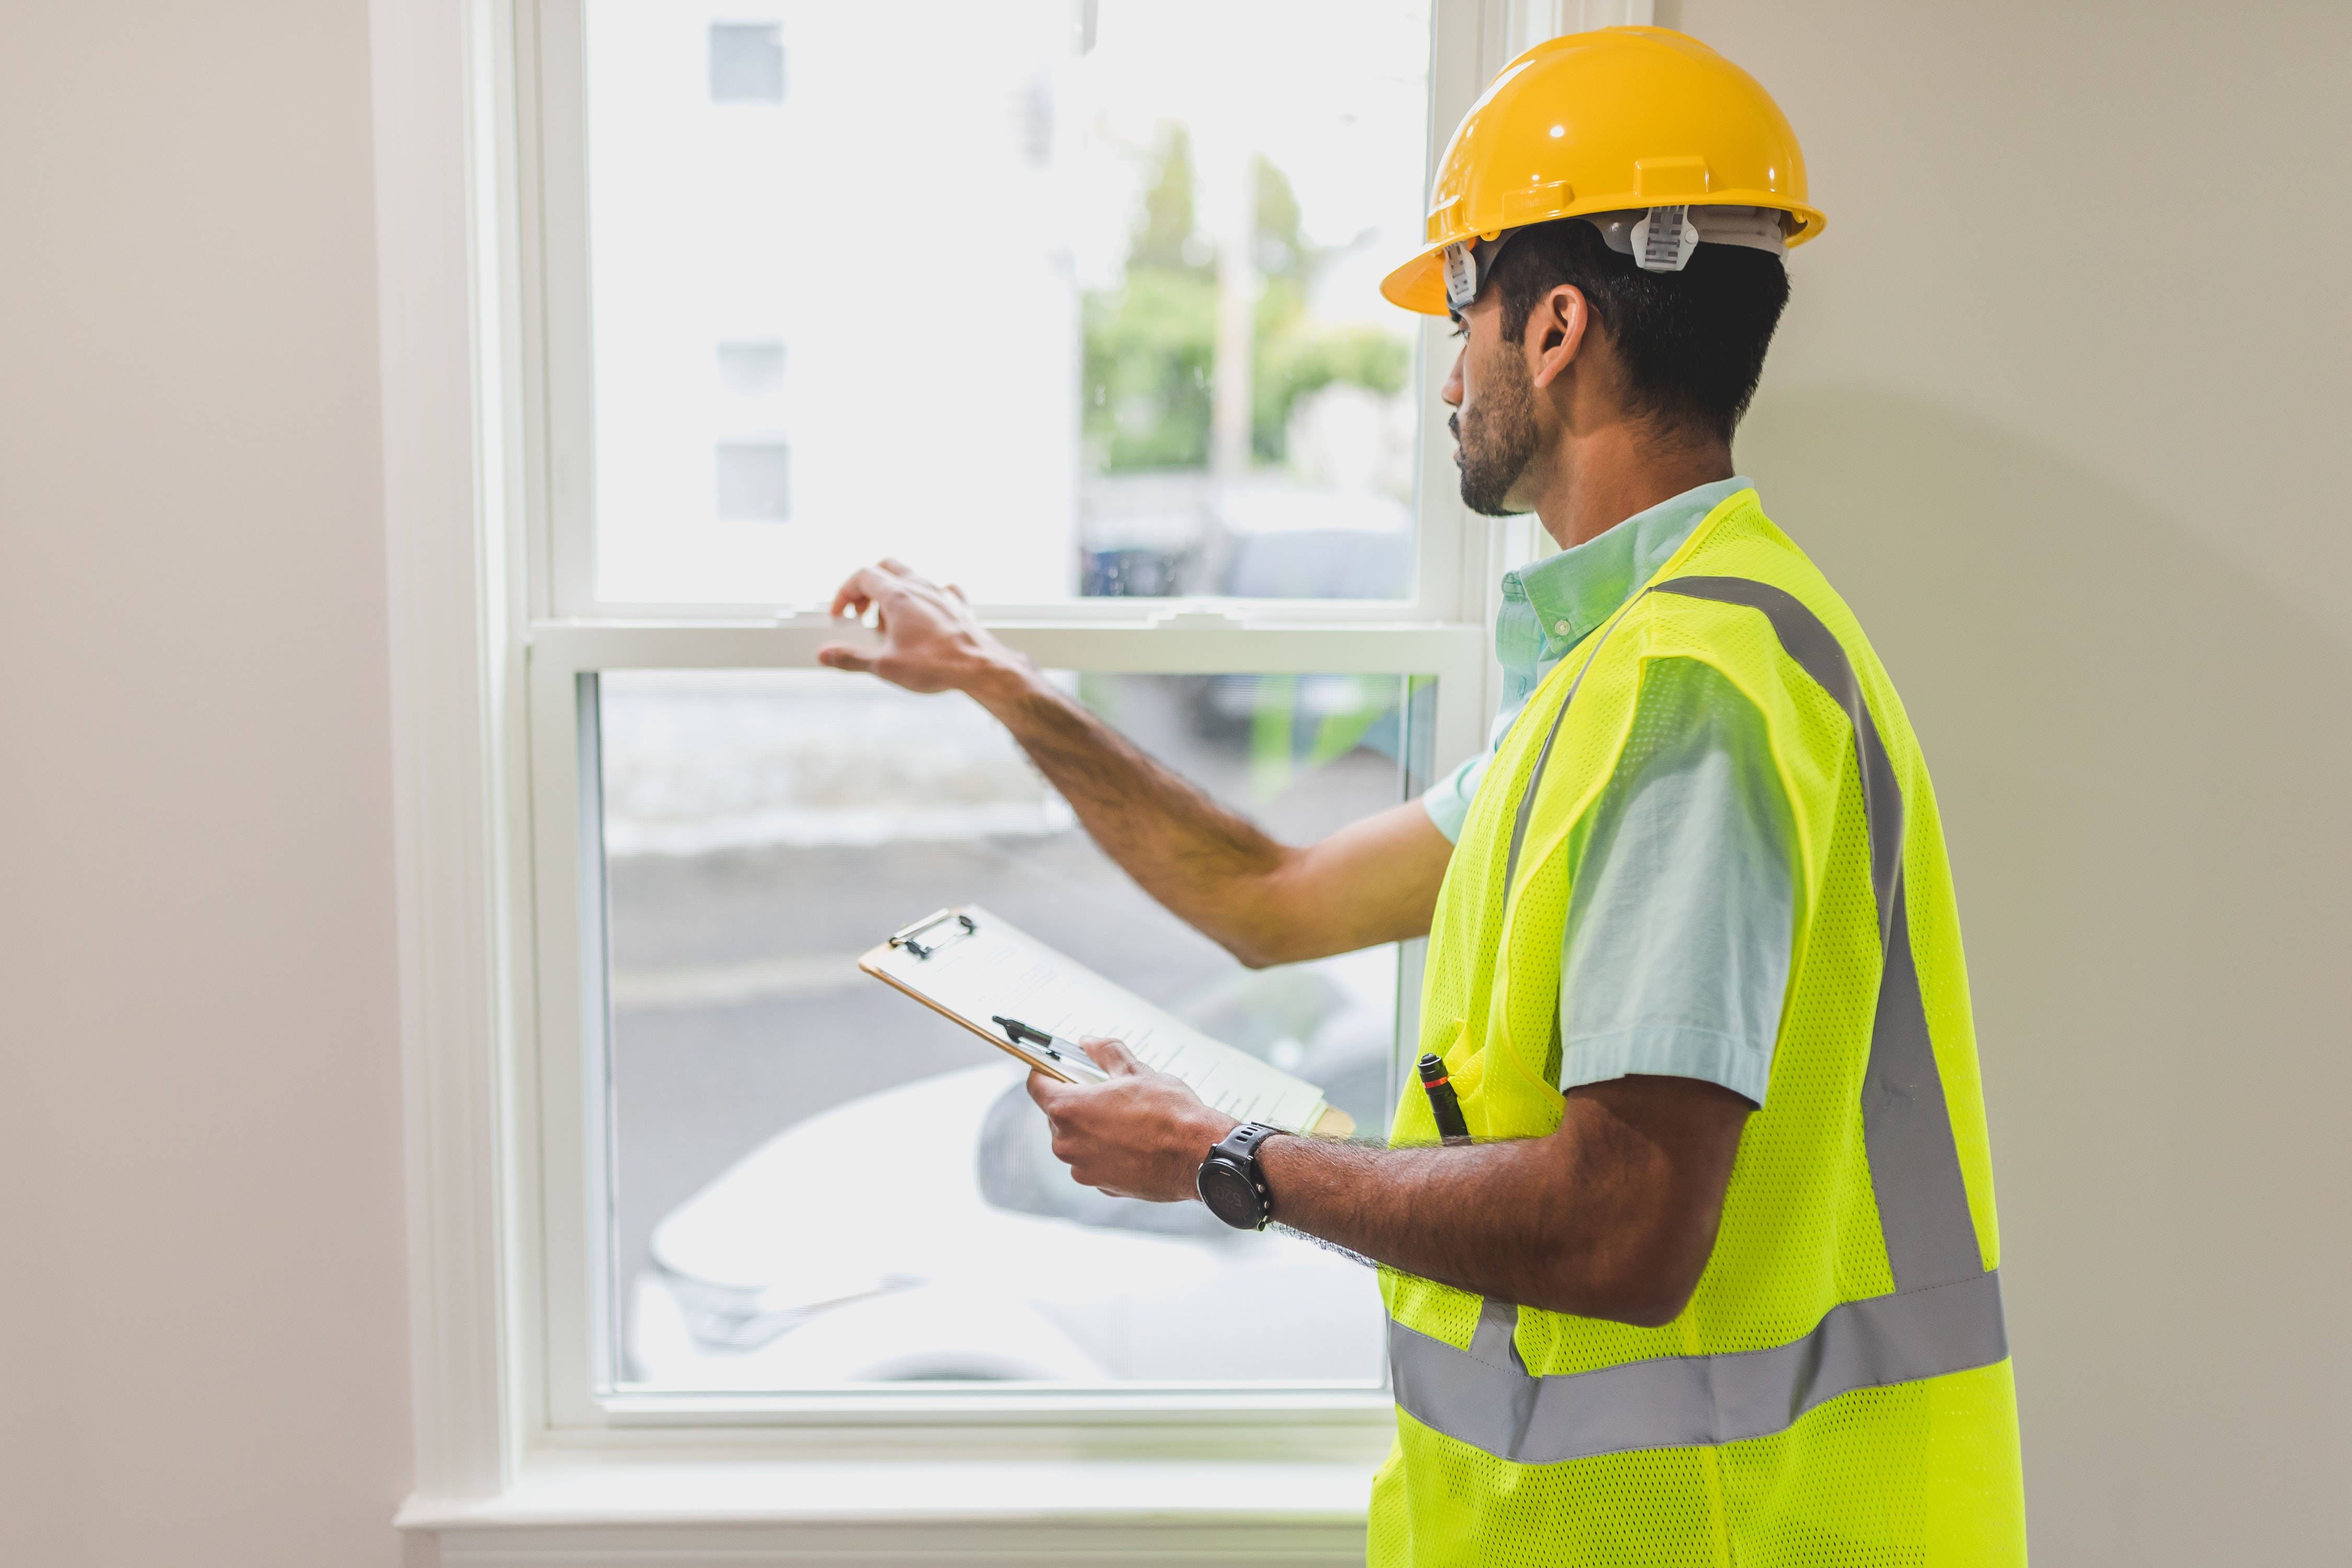Helmet: (1330, 16, 1850, 609)
Reflective vest: (1361, 488, 2035, 1568)
